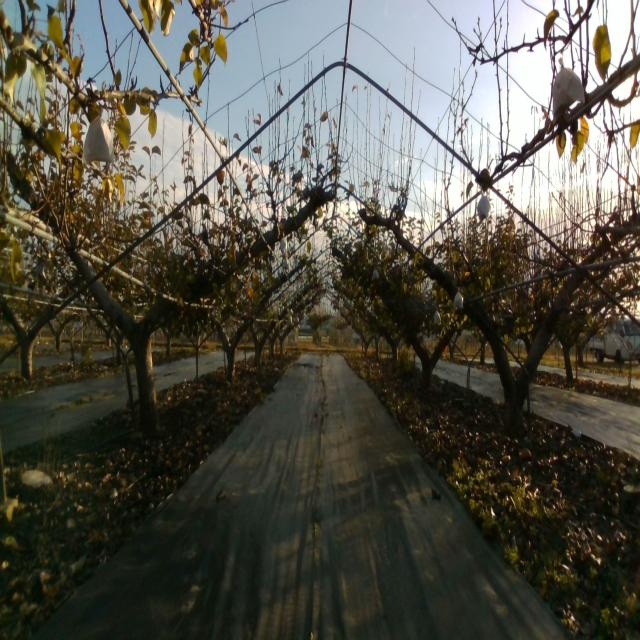pearbags: (552, 58, 585, 120), (81, 114, 115, 165), (477, 191, 491, 224), (453, 288, 464, 308)
